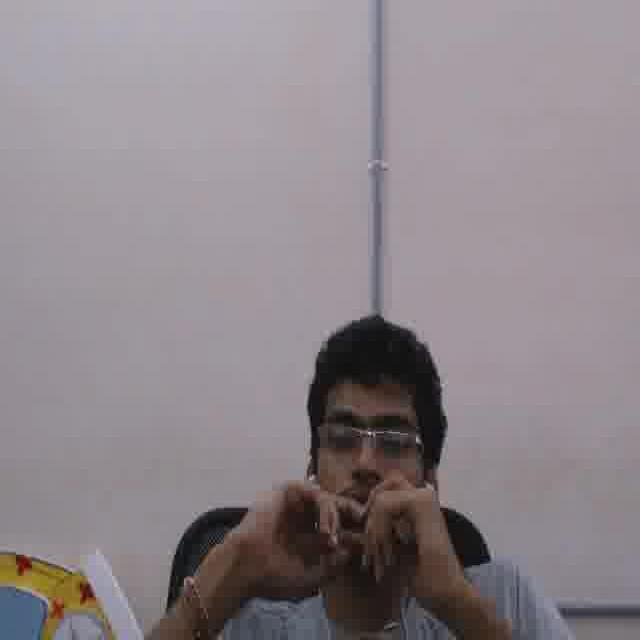Boredom: (312, 372, 418, 547)
